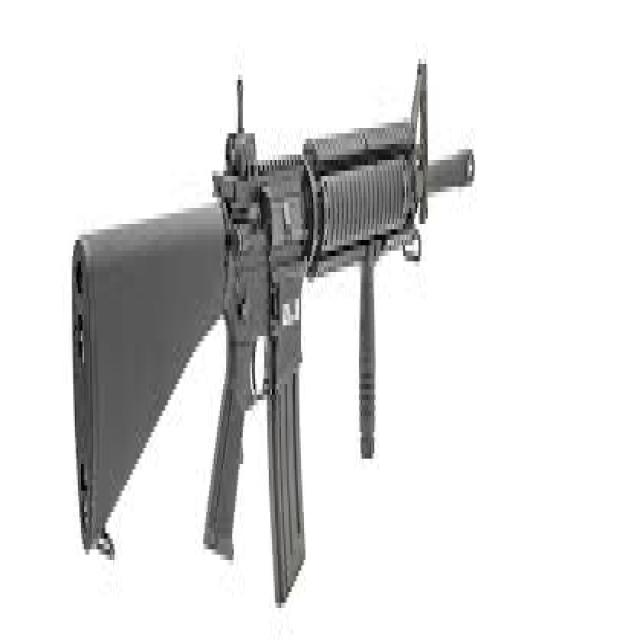rifle: (72, 48, 478, 619)
